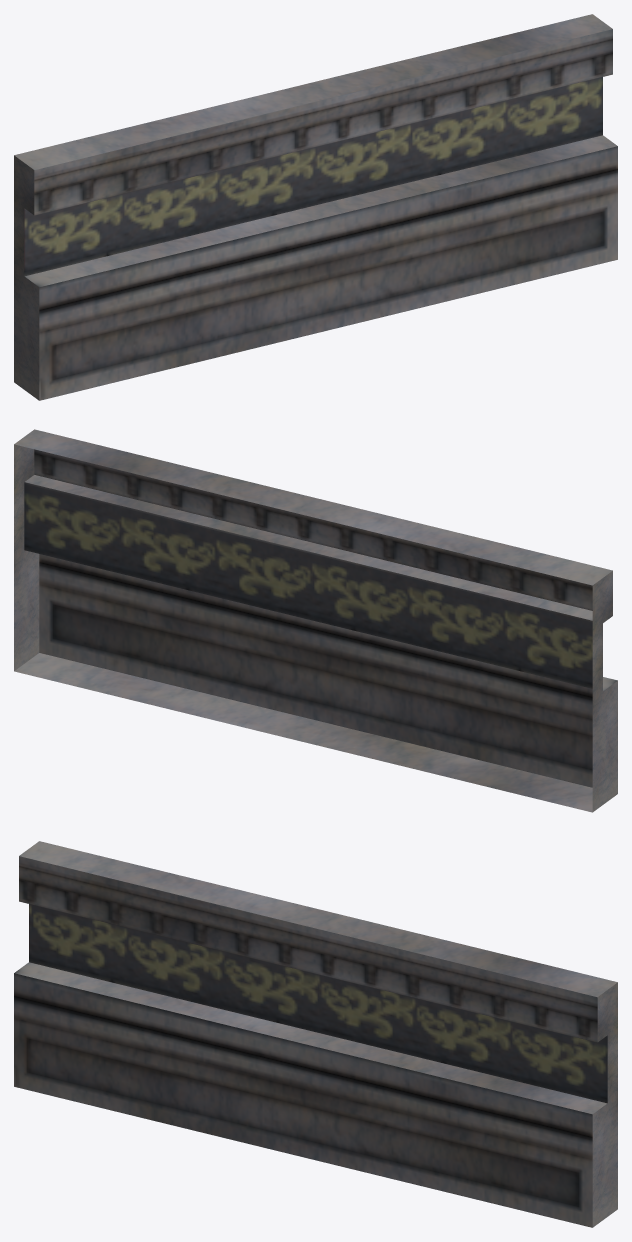
Rendered from wall_trim_01.glb.
3 views of the same model, one above another, from view 1: azimuth 30°, elevation 25°; view 2: azimuth 150°, elevation 25°; view 3: azimuth 330°, elevation 25° (orthographic).
Visible parts, largest first — view 1: wall_trim_01; view 2: wall_trim_01; view 3: wall_trim_01.
Part boxes in pixels (x1,y1,x2,y2): wall_trim_01: (14, 14, 617, 400); wall_trim_01: (14, 429, 617, 812); wall_trim_01: (14, 841, 617, 1227).
Size of the model in its own units: 8 by 3 by 0.6082.
1 material, 1 textured.
